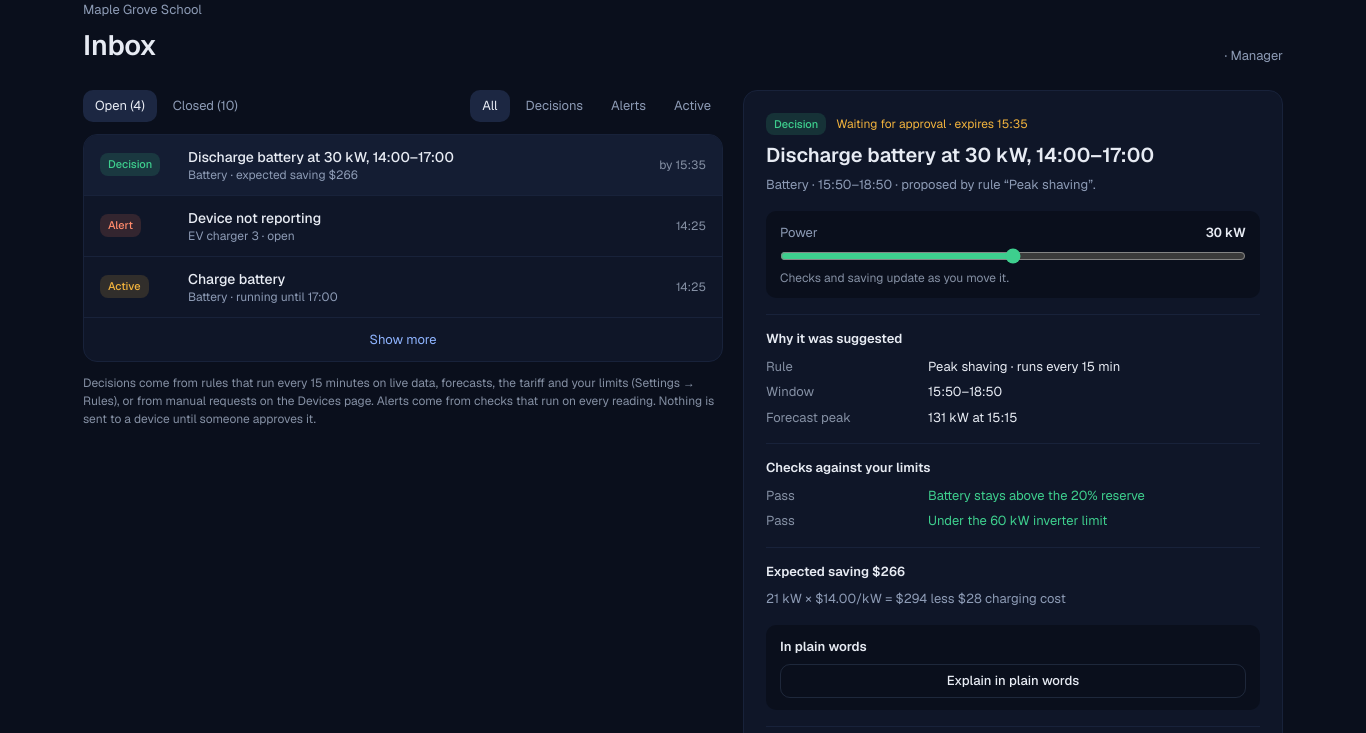
it: explanations (P5-05) › writes one on request, sending nothing but the ask
This screenshot has width=1366, height=733.
Click the button "Explain in plain words" at [1013, 681], box [780,664,1246,698]
(page scrolled)
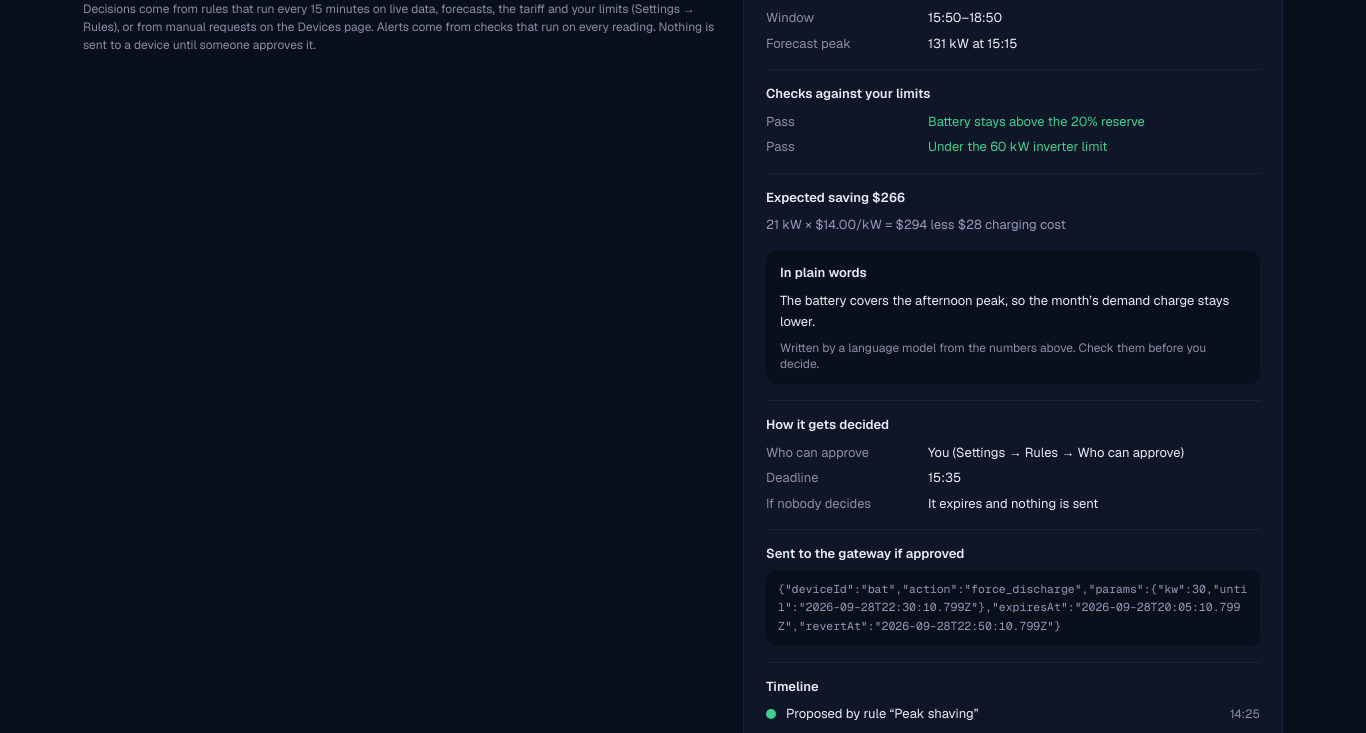
Now the text "The battery covers the afternoon peak, so the month’s demand charge stays lower." is shown, box [780,290,1246,332]
Now the text "Written by a language model" is shown, box [780,340,1206,372]
